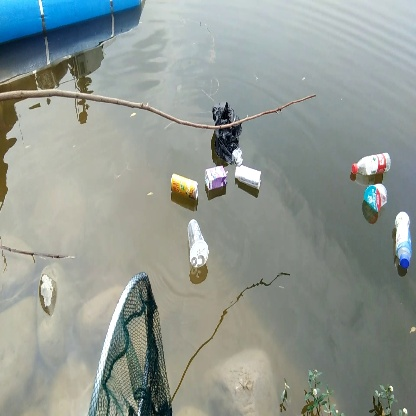bottle: (183, 219, 215, 272), (392, 208, 412, 272), (353, 151, 392, 177), (167, 173, 201, 202)
milk-box: (233, 163, 264, 194), (204, 164, 228, 192)
plastic-bag: (210, 102, 246, 162)
